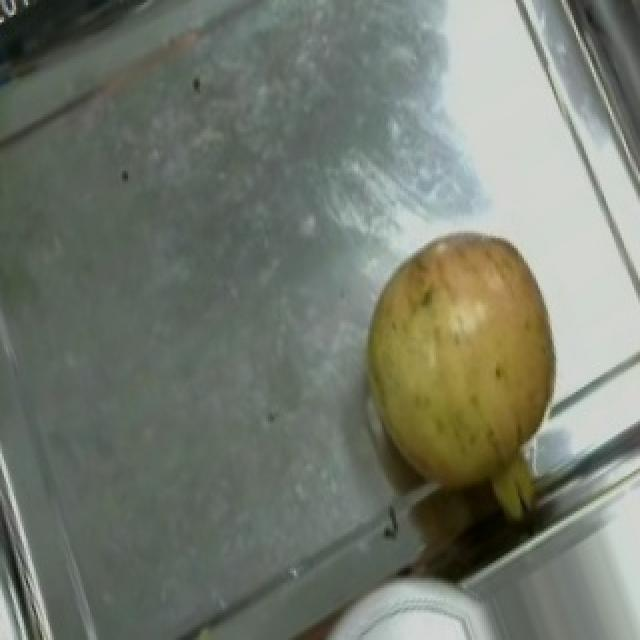fruit: (330, 198, 588, 466)
